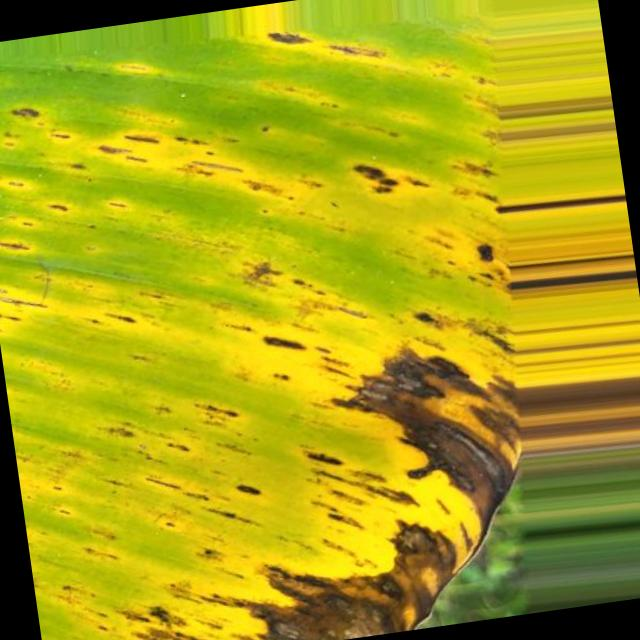Banana_Black_Sigatoka: (215, 283, 551, 640), (86, 17, 507, 275), (36, 387, 240, 640)
